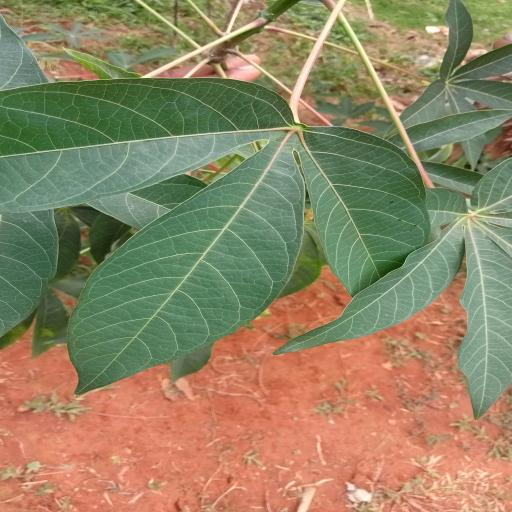Cassava_Healthy: (0, 73, 434, 401)
